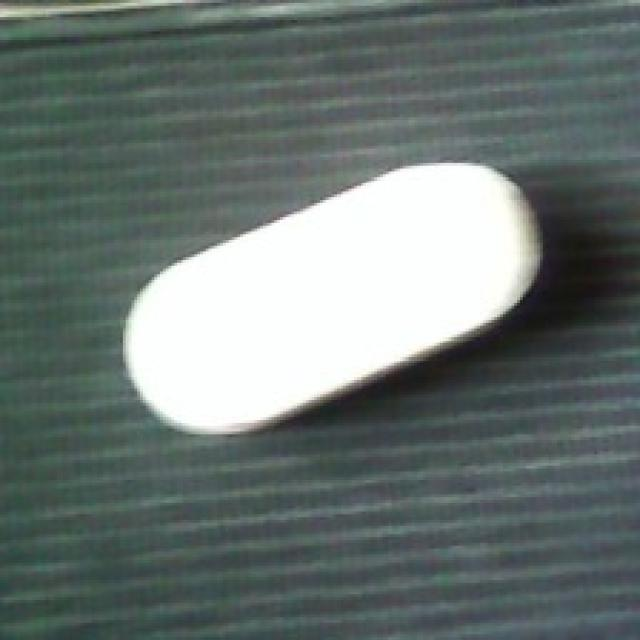no-defect: (123, 159, 543, 440)
